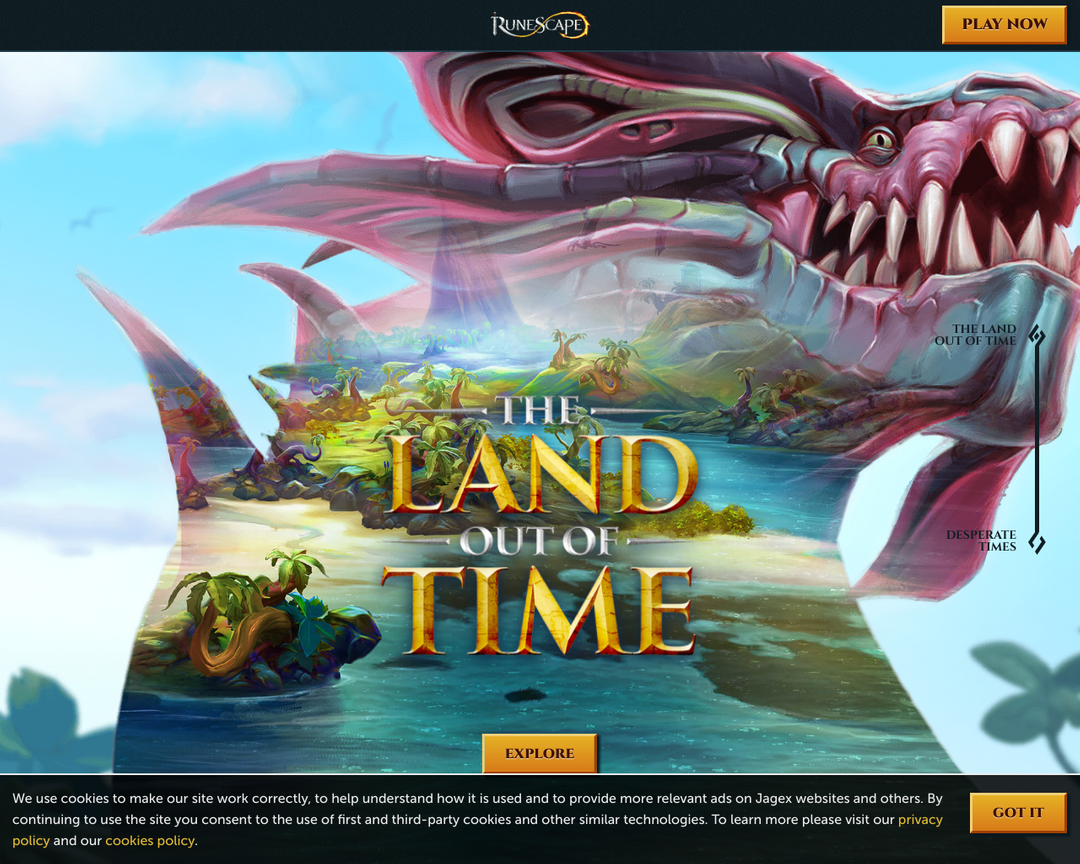Runescape: (483, 6, 594, 42)
